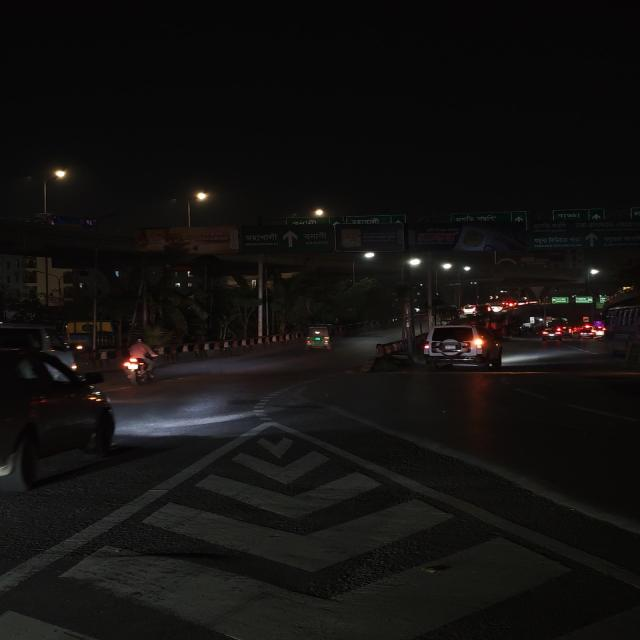car: (0, 343, 122, 504), (418, 322, 508, 368), (537, 327, 570, 344), (579, 329, 597, 340)
cng: (300, 324, 339, 352)
motorcycle: (111, 335, 163, 385)
